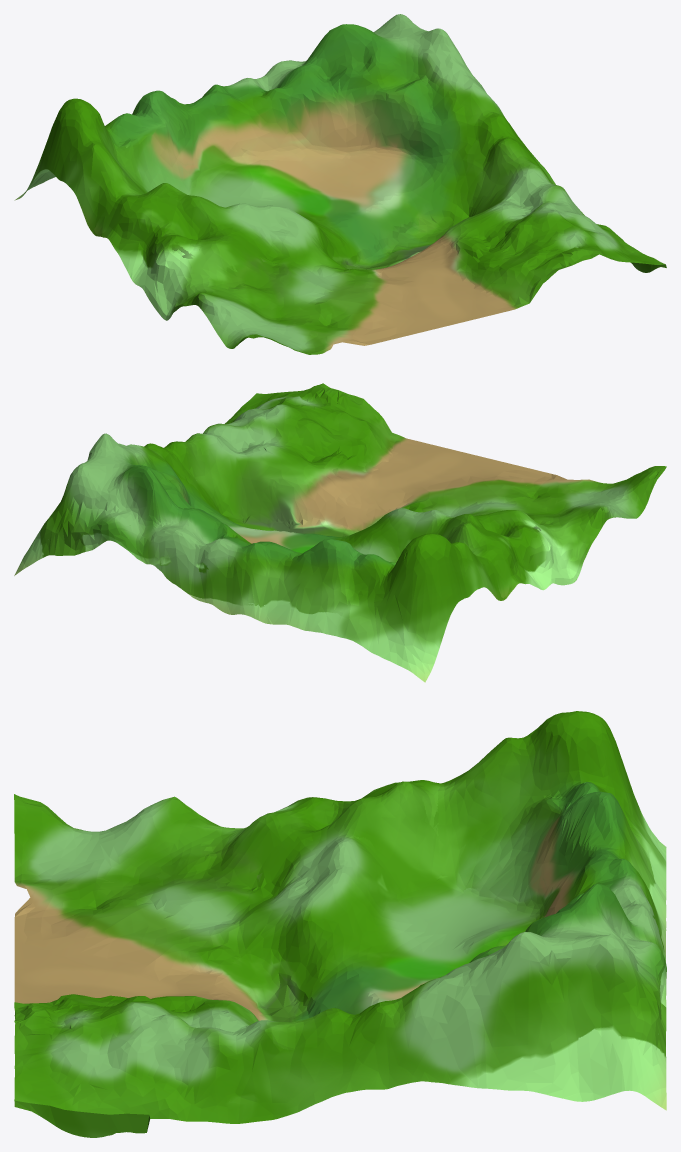
The model's file is Terrain1.fbx.
3 renders of one model, top to bottom at view 1: azimuth 30°, elevation 25°; view 2: azimuth 150°, elevation 25°; view 3: azimuth 270°, elevation 25°, orthographic. The views are drawn at different scales.
Visible parts, largest first — view 1: Map1_10000p; view 2: Map1_10000p; view 3: Map1_10000p.
Boxes of the visible parts, <box> form: Map1_10000p: <box>14,14,666,354</box>; Map1_10000p: <box>14,383,666,682</box>; Map1_10000p: <box>14,711,666,1137</box>.
Bounding box in the file's own units: 20038 × 6432 × 20279.
